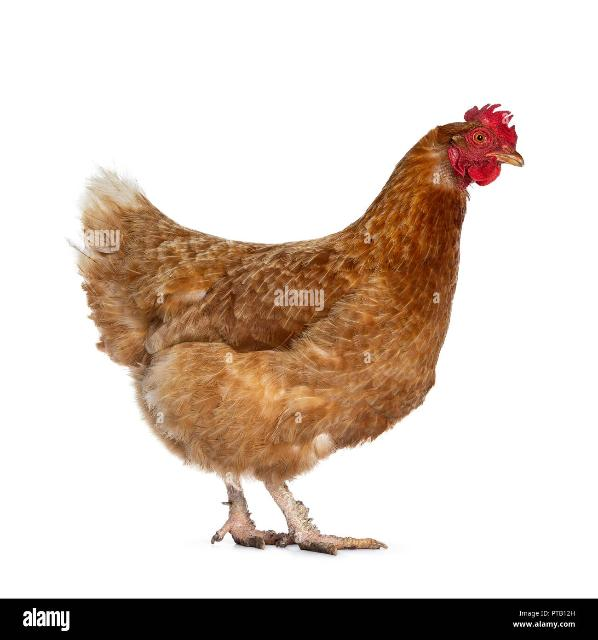Chicken: (69, 102, 525, 557)
